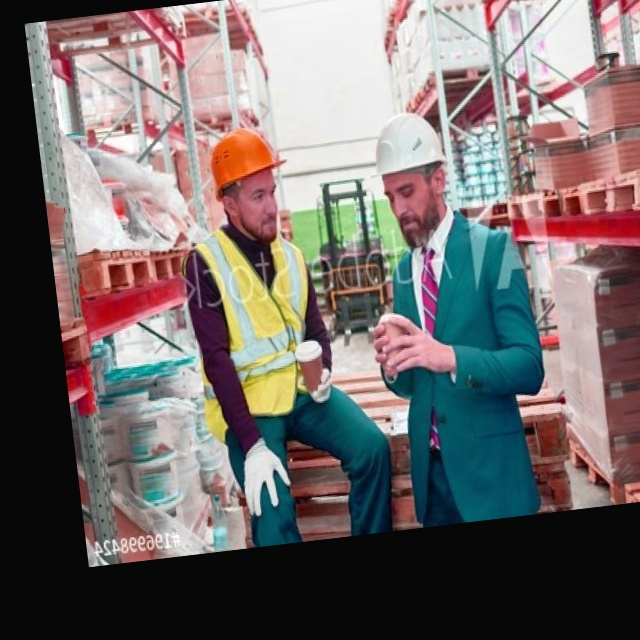Con_Casco: (368, 109, 451, 239)
Con_Chaleco: (185, 221, 328, 436)
